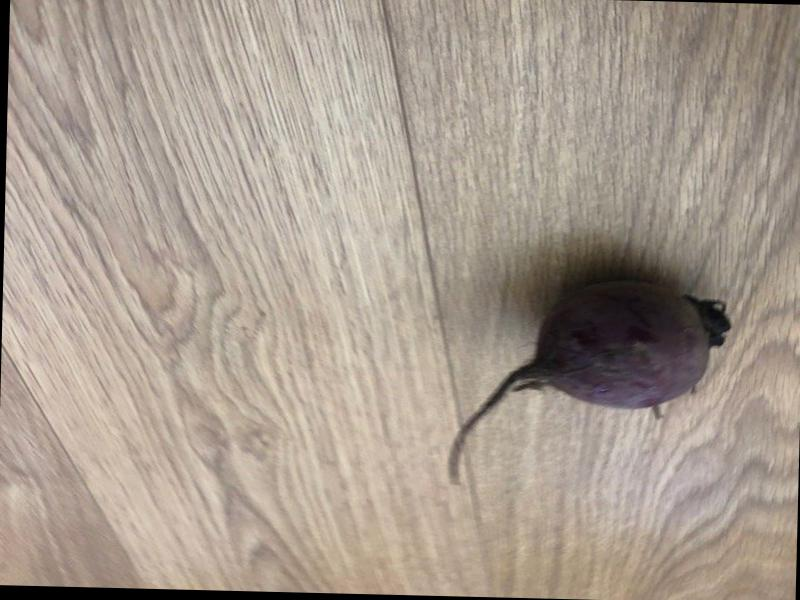Beet: (442, 274, 726, 490)
